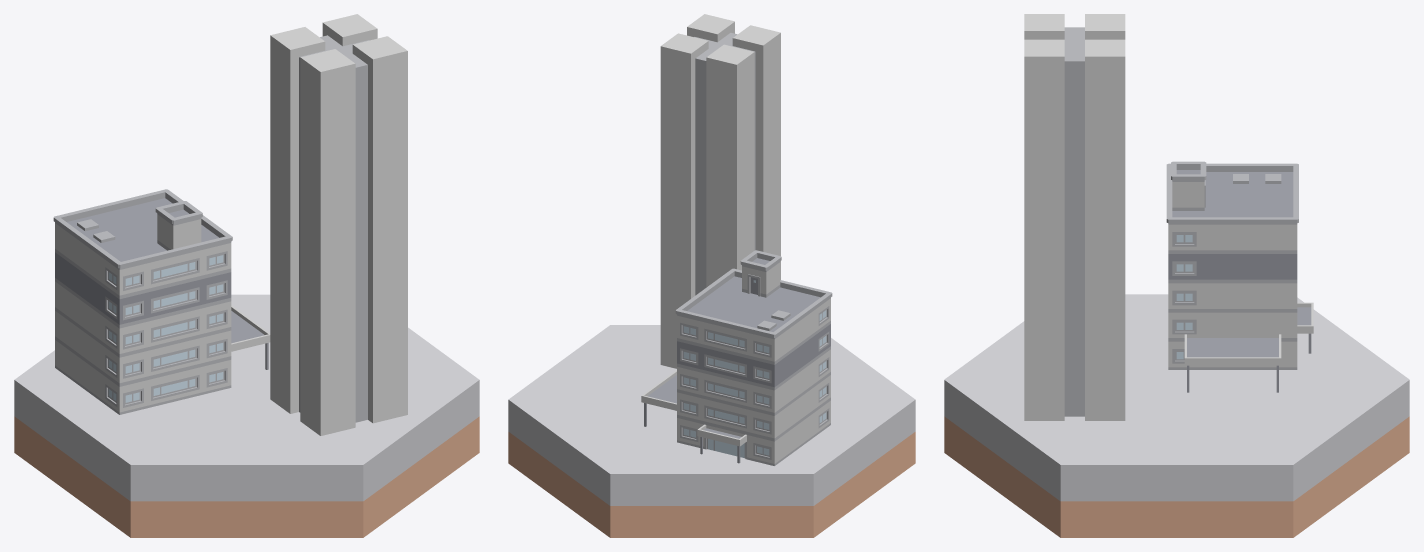
The model's file is 2_buildings_1_high.fbx.
3 renders of one model, left to right at view 1: azimuth 30°, elevation 25°; view 2: azimuth 150°, elevation 25°; view 3: azimuth 270°, elevation 25°, orthographic. The views are drawn at different scales.
Visible parts, largest first — view 1: pavement_high.009, low_buildingE, large_buildingG; view 2: pavement_high.009, low_buildingE, large_buildingG; view 3: pavement_high.009, low_buildingE, large_buildingG.
Boxes of the visible parts, x1,y1,x2,y2 form: pavement_high.009: (14, 294, 479, 537); low_buildingE: (270, 14, 407, 435); large_buildingG: (53, 189, 270, 414); pavement_high.009: (508, 325, 915, 537); low_buildingE: (660, 14, 780, 368); large_buildingG: (641, 250, 832, 465); pavement_high.009: (944, 294, 1409, 537); low_buildingE: (1024, 14, 1125, 420); large_buildingG: (1166, 161, 1313, 392).
Bounding box in the file's own units: 100 × 120 × 115.
